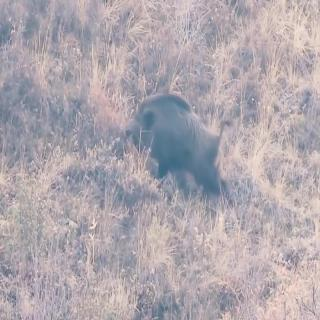Pig: (116, 72, 228, 187)
